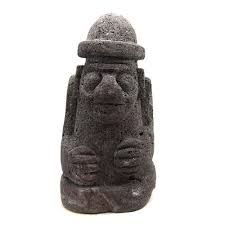Stone Statue: (27, 7, 168, 217)
